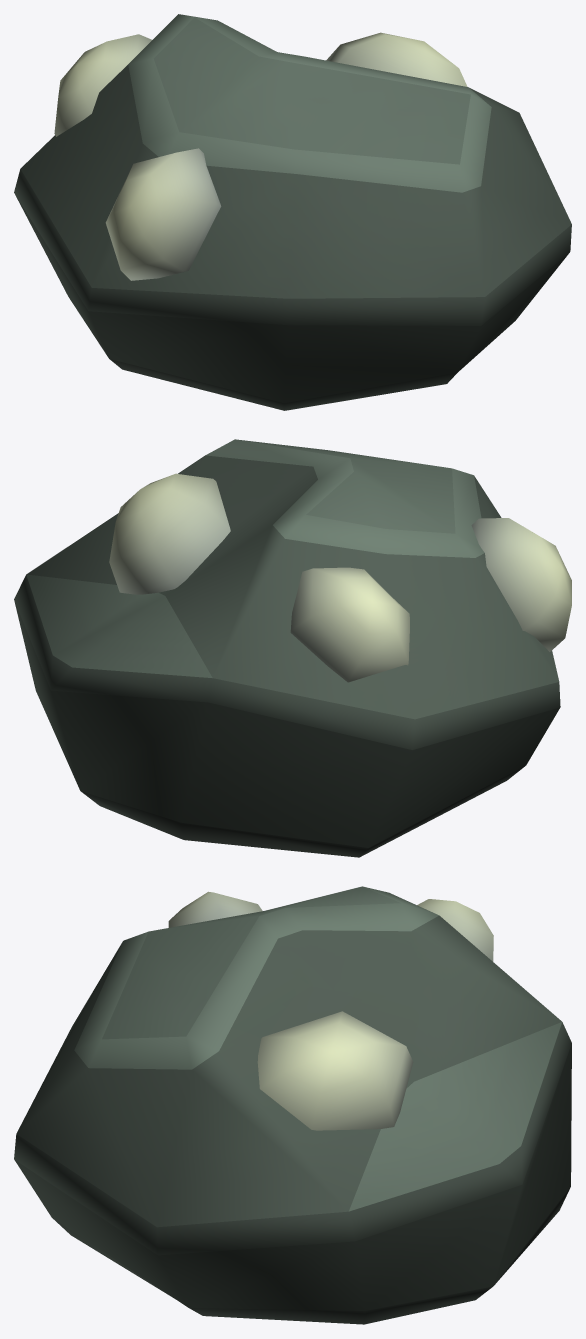
The model's file is ore_nuggets_iron_S.fbx.
3 renders of one model, top to bottom at view 1: azimuth 30°, elevation 25°; view 2: azimuth 150°, elevation 25°; view 3: azimuth 270°, elevation 25°, orthographic. The views are drawn at different scales.
Parts seen in each view (by area): view 1: ore_nuggets_iron_S; view 2: ore_nuggets_iron_S; view 3: ore_nuggets_iron_S.
Boxes of the visible parts, x1,y1,x2,y2 form: ore_nuggets_iron_S: (14, 14, 571, 410); ore_nuggets_iron_S: (14, 439, 571, 857); ore_nuggets_iron_S: (14, 886, 571, 1324).
Bounding box in the file's own units: 115 × 79.89 × 110.
1 material, 1 textured.
